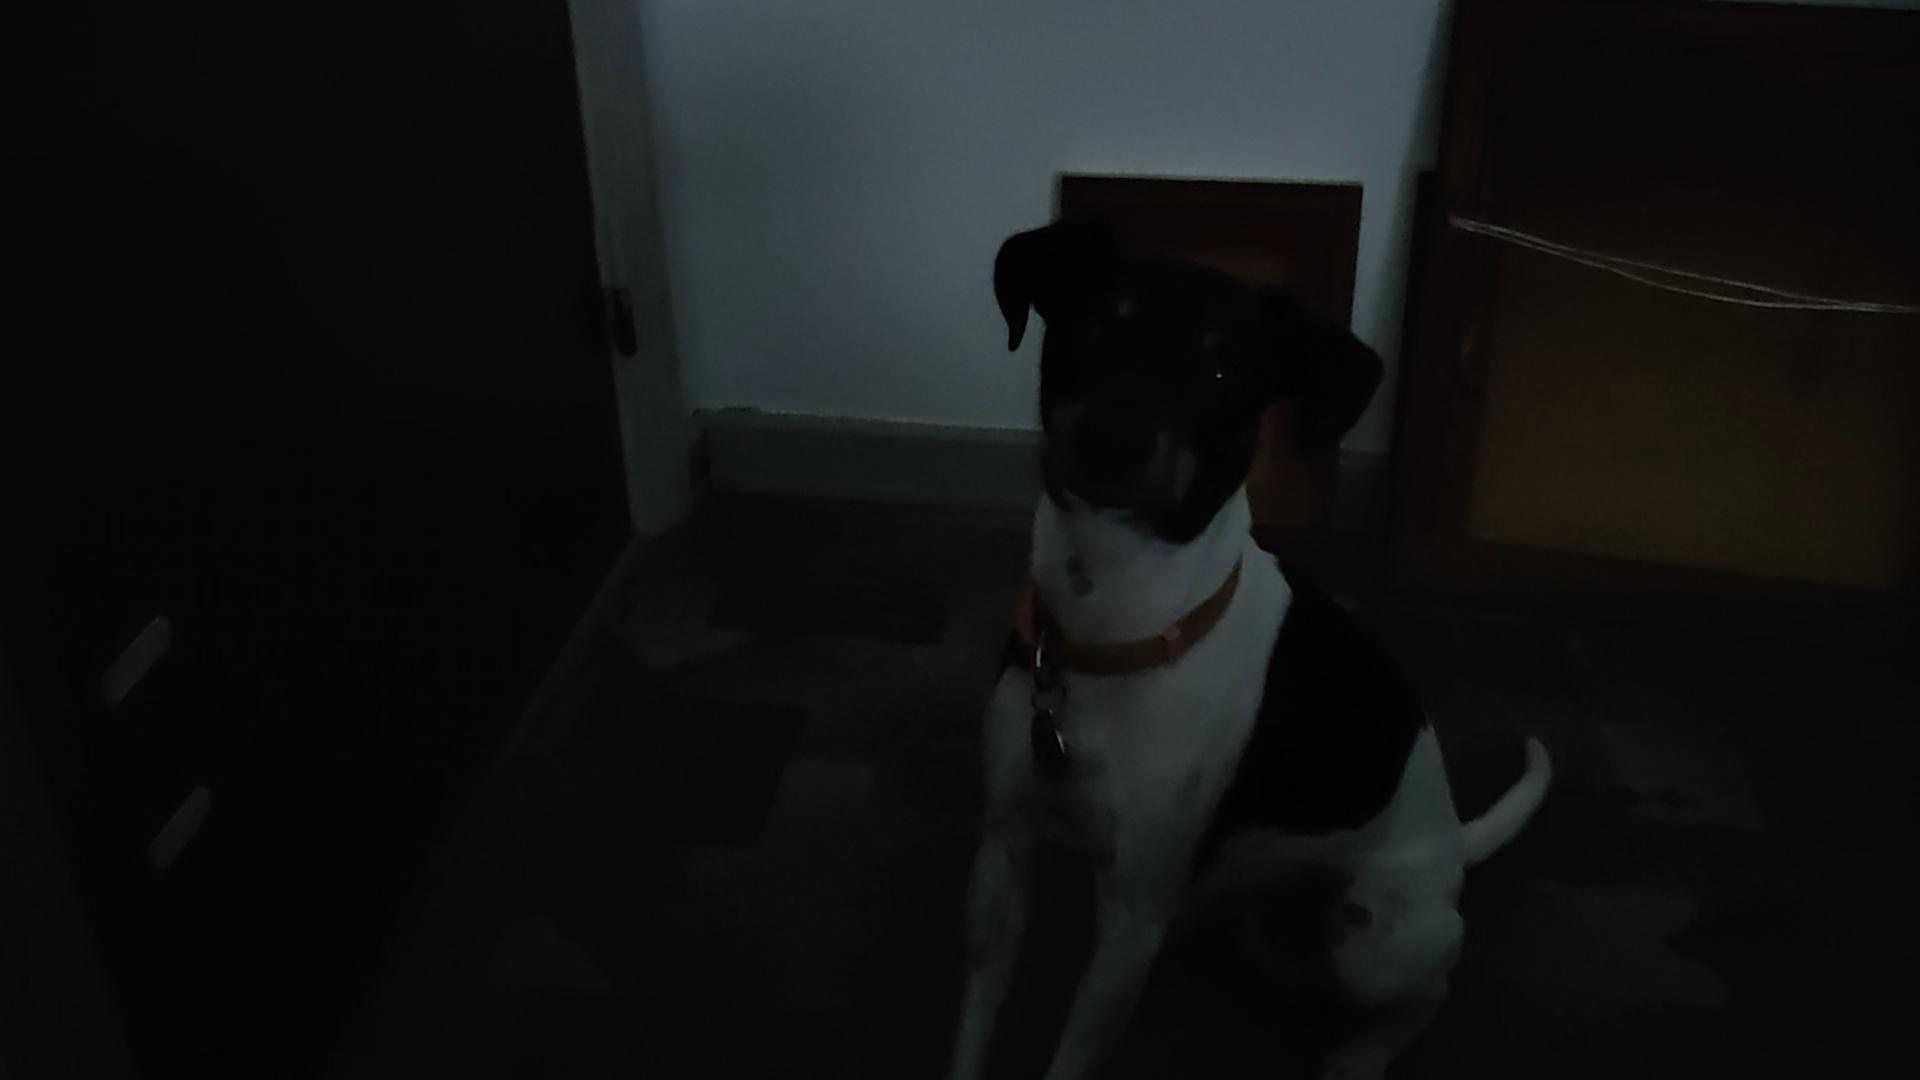Dog: (945, 208, 1553, 1079)
